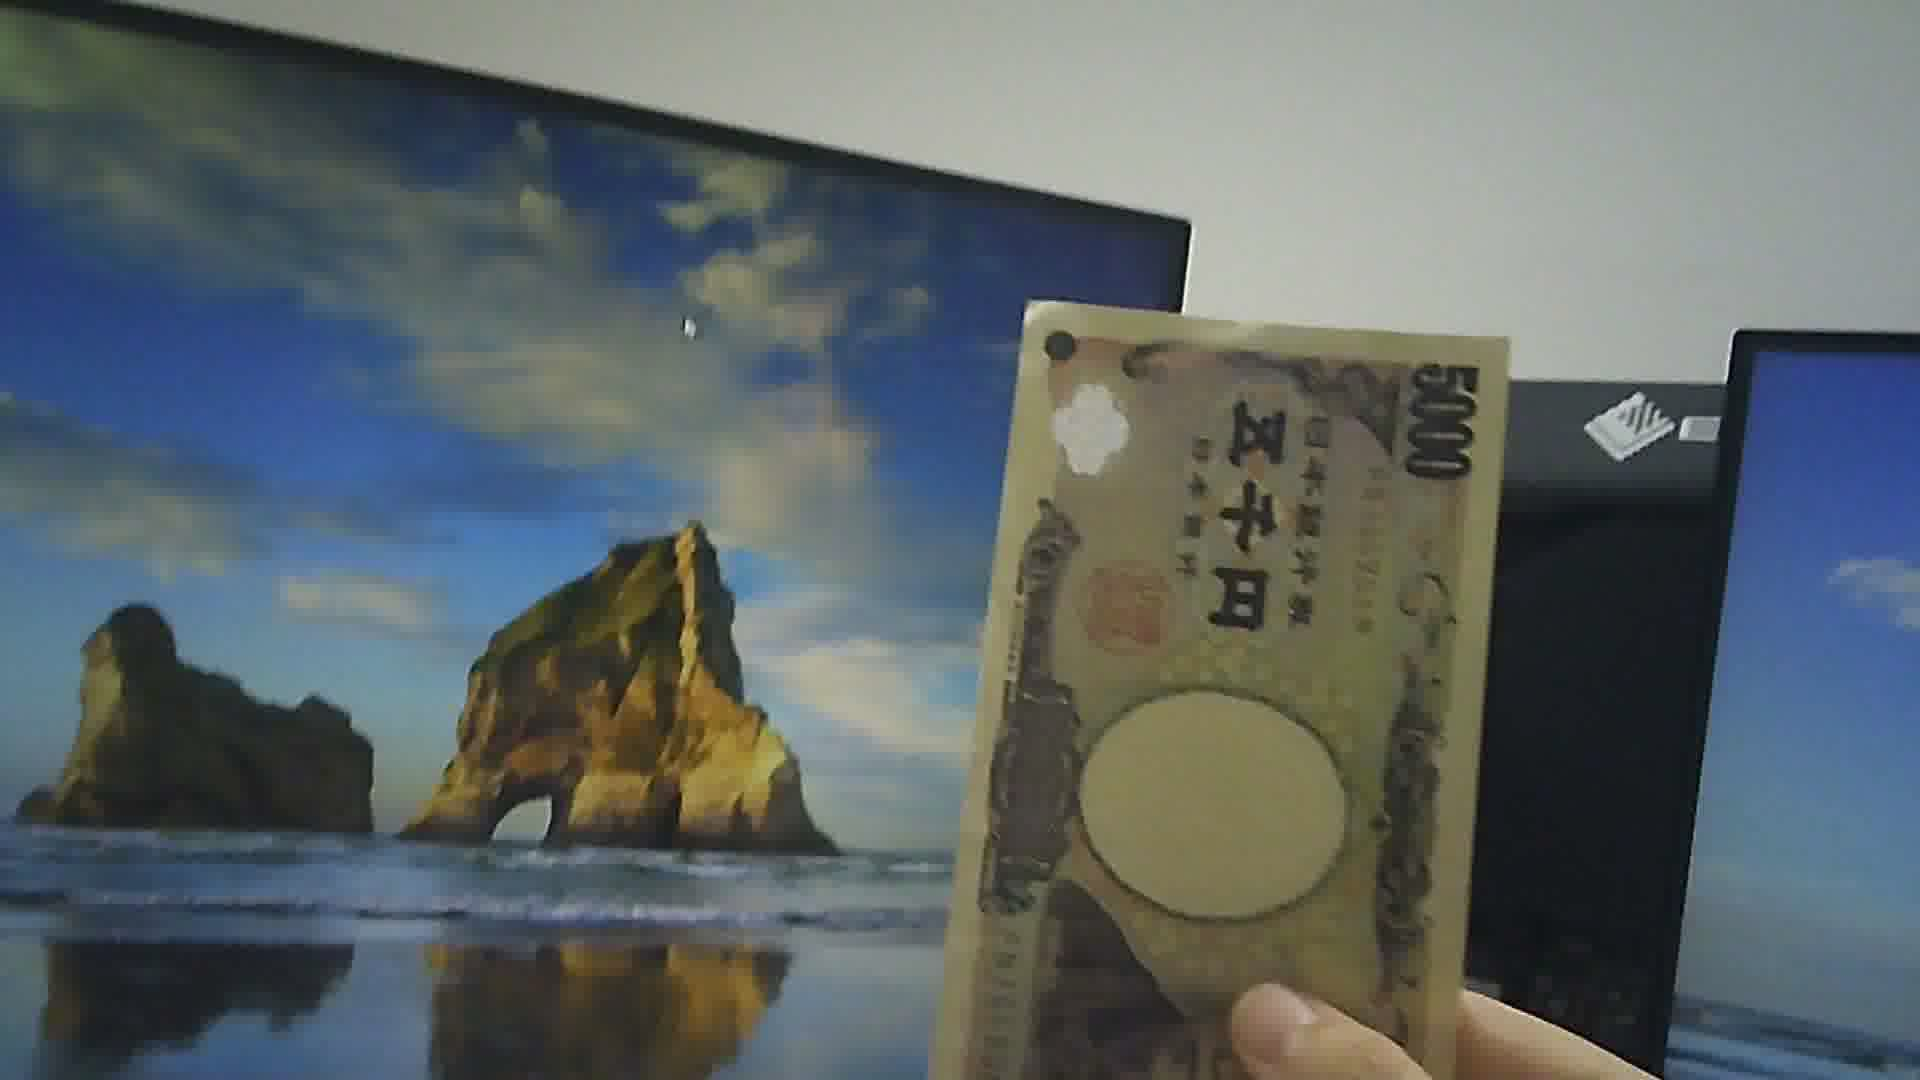5,000 Yen: (949, 286, 1487, 1079)
